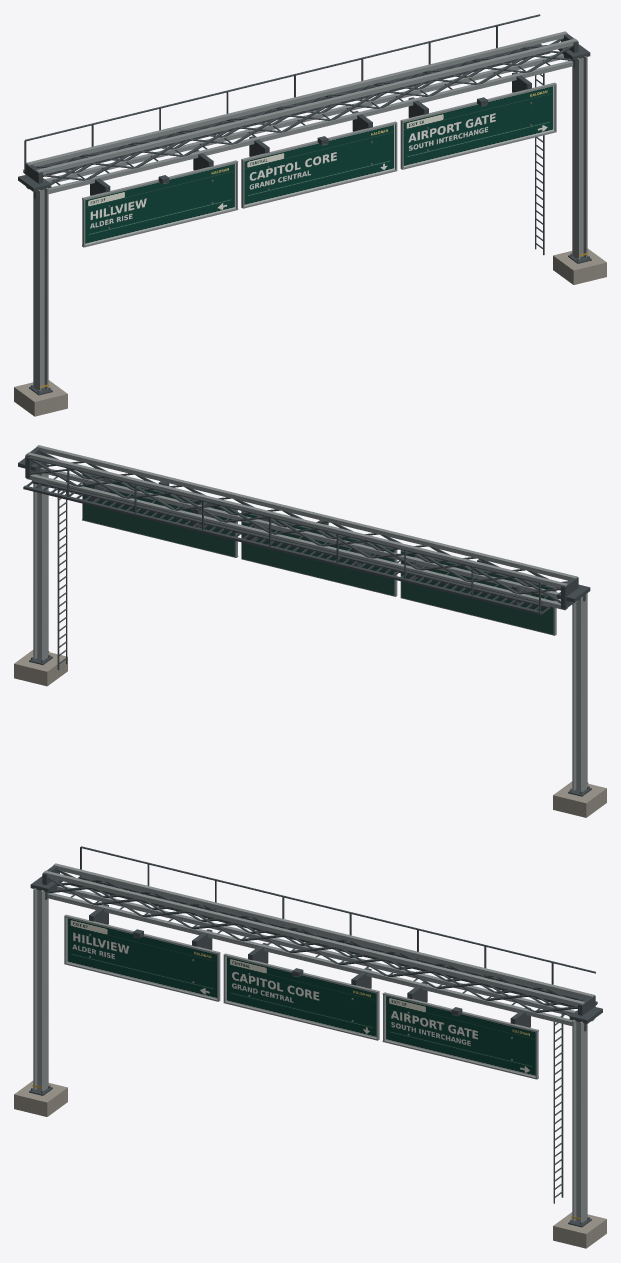
3 views of the same model, one above another, from view 1: azimuth 30°, elevation 25°; view 2: azimuth 150°, elevation 25°; view 3: azimuth 330°, elevation 25° (orthographic).
Visible parts, largest first — view 1: VIS_Truss_Chords, VIS_SignPanel_03_Graphic, VIS_SignPanel_01_Graphic, VIS_SignPanel_02_Graphic, VIS_Truss_Diagonal_Braces, VIS_L_Post_HSection, VIS_R_Post_HSection, VIS_ServiceWalkway_SideRails, VIS_Walkway_GuardRail, VIS_L_Concrete_Foundation, VIS_R_Concrete_Foundation, VIS_Maintenance_Ladder (+3 smaller); view 2: VIS_Truss_Chords, VIS_ServiceWalkway_SideRails, VIS_Truss_Diagonal_Braces, VIS_SignPanel_01_BackSheet, VIS_SignPanel_02_BackSheet, VIS_SignPanel_03_BackSheet, VIS_L_Post_HSection, VIS_R_Post_HSection, VIS_Walkway_GuardRail, VIS_L_Concrete_Foundation, VIS_R_Concrete_Foundation, VIS_Maintenance_Ladder (+3 smaller); view 3: VIS_Truss_Chords, VIS_SignPanel_01_Graphic, VIS_SignPanel_03_Graphic, VIS_SignPanel_02_Graphic, VIS_Truss_Diagonal_Braces, VIS_R_Post_HSection, VIS_L_Post_HSection, VIS_ServiceWalkway_SideRails, VIS_Walkway_GuardRail, VIS_L_Concrete_Foundation, VIS_R_Concrete_Foundation, VIS_Maintenance_Ladder (+2 smaller).
Boxes of the visible parts, <box> form: VIS_Truss_Chords: <box>26,31,577,193</box>; VIS_SignPanel_03_Graphic: <box>403,86,554,166</box>; VIS_SignPanel_01_Graphic: <box>85,163,235,244</box>; VIS_SignPanel_02_Graphic: <box>244,124,394,205</box>; VIS_Truss_Diagonal_Braces: <box>37,38,572,184</box>; VIS_L_Post_HSection: <box>33,188,48,391</box>; VIS_R_Post_HSection: <box>572,56,587,259</box>; VIS_ServiceWalkway_SideRails: <box>23,44,550,175</box>; VIS_Walkway_GuardRail: <box>24,14,540,169</box>; VIS_L_Concrete_Foundation: <box>14,380,67,416</box>; VIS_R_Concrete_Foundation: <box>553,248,606,284</box>; VIS_Maintenance_Ladder: <box>535,73,544,255</box>; VIS_Truss_Chords: <box>26,445,577,610</box>; VIS_ServiceWalkway_SideRails: <box>23,479,550,614</box>; VIS_Truss_Diagonal_Braces: <box>31,453,566,603</box>; VIS_SignPanel_01_BackSheet: <box>401,551,553,634</box>; VIS_SignPanel_02_BackSheet: <box>242,512,394,595</box>; VIS_SignPanel_03_BackSheet: <box>83,474,235,556</box>; VIS_L_Post_HSection: <box>572,593,587,792</box>; VIS_R_Post_HSection: <box>33,463,48,660</box>; VIS_Walkway_GuardRail: <box>25,456,540,612</box>; VIS_L_Concrete_Foundation: <box>553,781,606,817</box>; VIS_R_Concrete_Foundation: <box>14,650,67,686</box>; VIS_Maintenance_Ladder: <box>57,481,67,670</box>; VIS_Truss_Chords: <box>43,863,594,1025</box>; VIS_SignPanel_01_Graphic: <box>66,918,217,998</box>; VIS_SignPanel_03_Graphic: <box>385,995,535,1076</box>; VIS_SignPanel_02_Graphic: <box>226,956,376,1037</box>; VIS_Truss_Diagonal_Braces: <box>48,872,584,1016</box>; VIS_R_Post_HSection: <box>572,1020,587,1223</box>; VIS_L_Post_HSection: <box>33,888,48,1091</box>; VIS_ServiceWalkway_SideRails: <box>71,876,597,1008</box>; VIS_Walkway_GuardRail: <box>80,846,595,984</box>; VIS_L_Concrete_Foundation: <box>14,1080,67,1116</box>; VIS_R_Concrete_Foundation: <box>553,1212,606,1248</box>; VIS_Maintenance_Ladder: <box>553,1014,563,1203</box>.
Size of the model in its own units: 23.36 by 9.43 by 3.07.
Materials: 11 (11 with a texture image).
